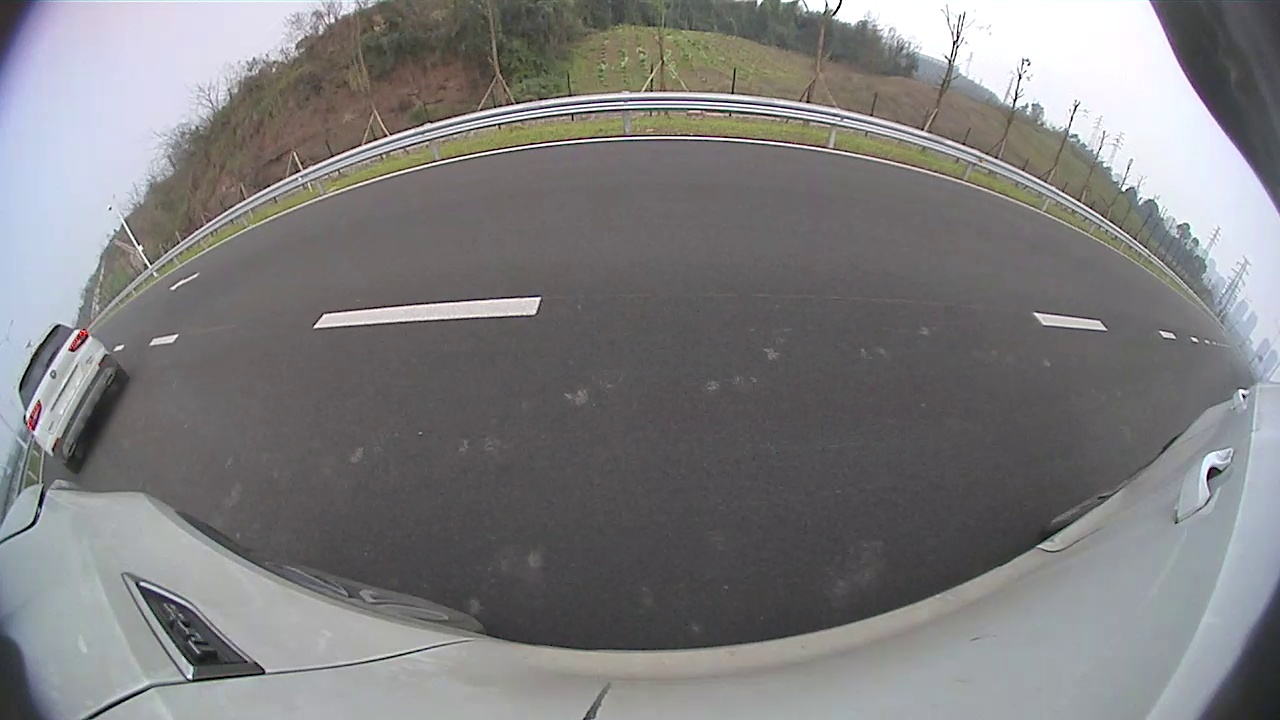car: (17, 322, 129, 473)
